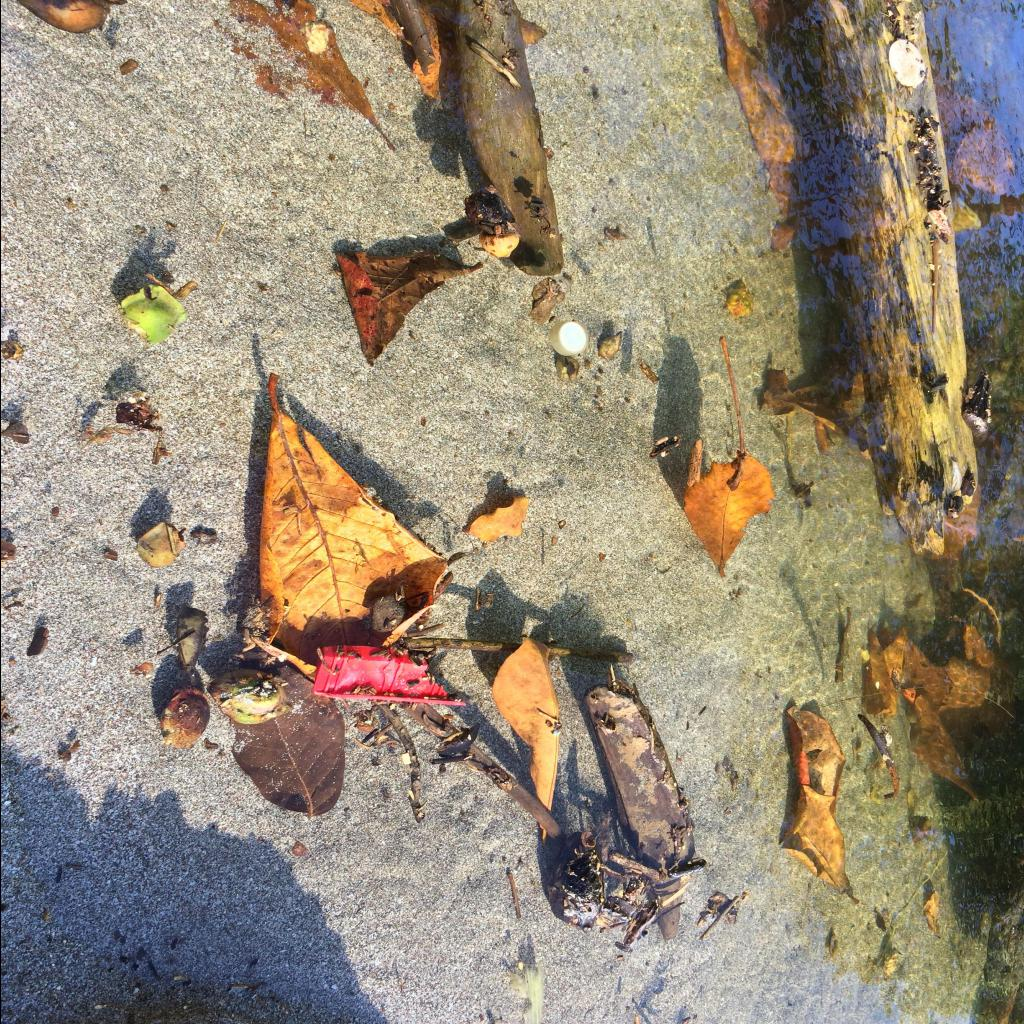Other plastic bottle: (313, 646, 465, 706)
Plastic bottle cap: (550, 321, 588, 356)
